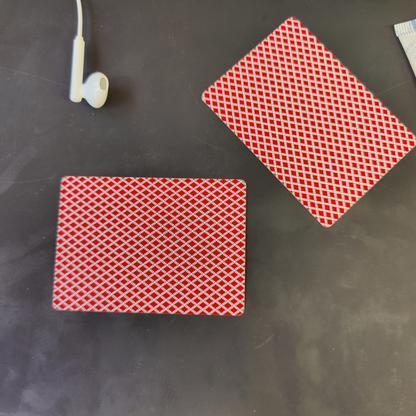card: (43, 162, 255, 331), (188, 10, 416, 155)
